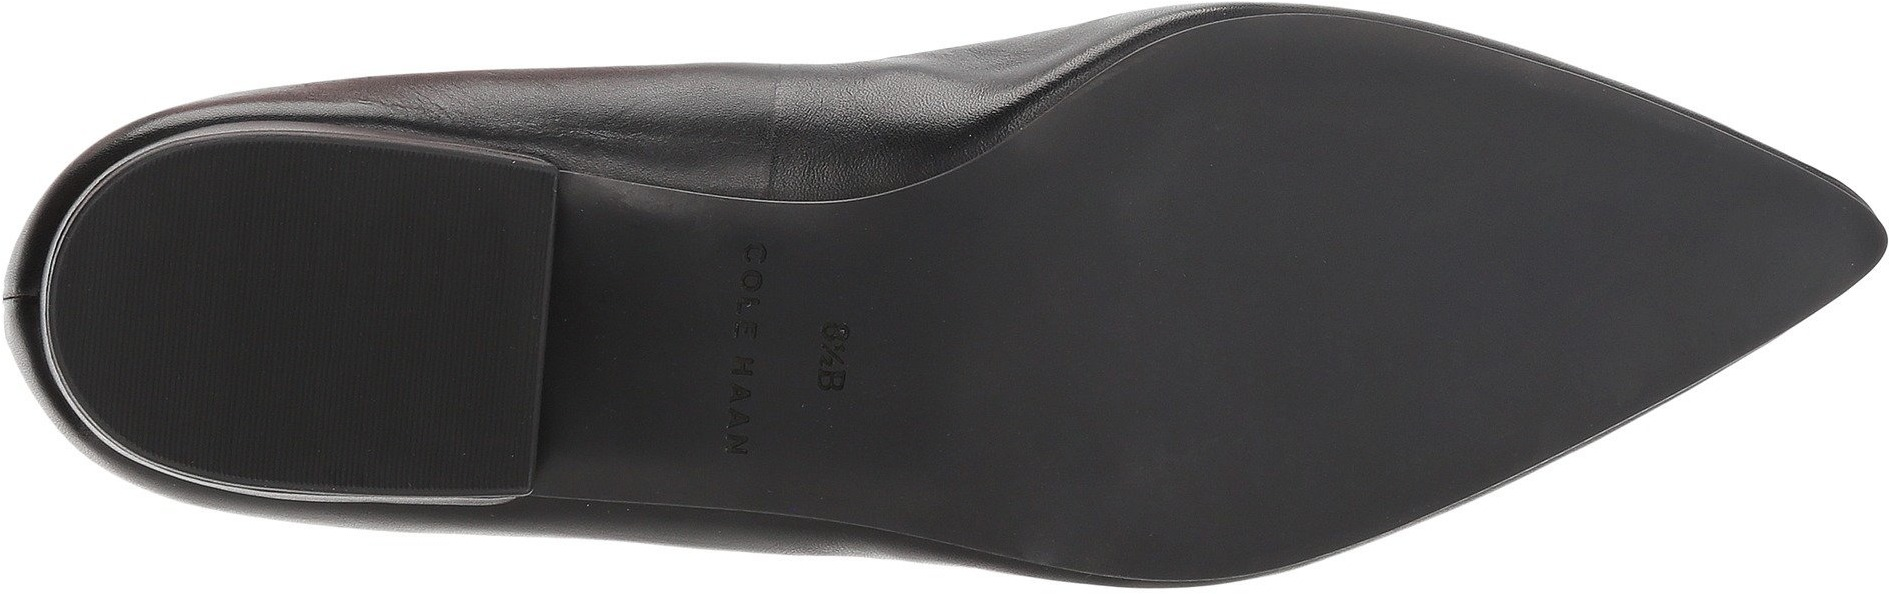exclude: (517, 113, 885, 586)
other: (1159, 61, 1479, 378), (904, 218, 1167, 454), (1485, 133, 1716, 374), (99, 208, 328, 440), (335, 214, 543, 420), (1170, 383, 1350, 548)
text: (700, 318, 792, 412), (710, 233, 792, 318), (798, 320, 863, 400), (696, 414, 766, 484)
